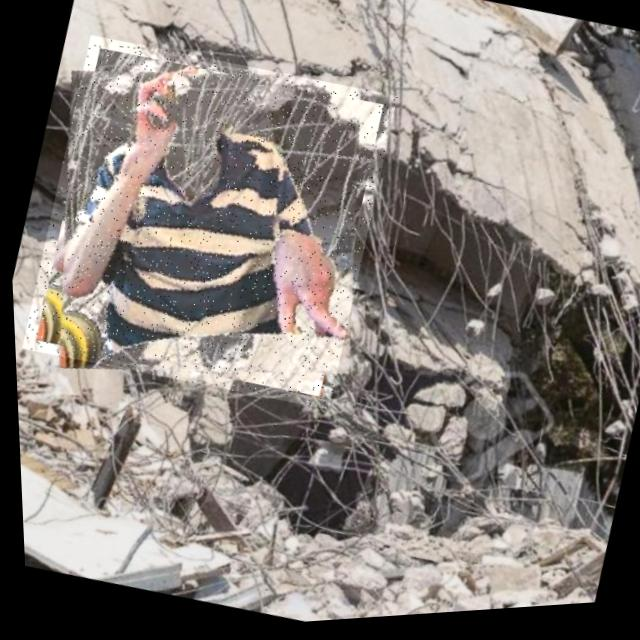Person in Rubble: (7, 20, 407, 429)
